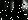person: (22, 1, 28, 13), (11, 1, 15, 13)
